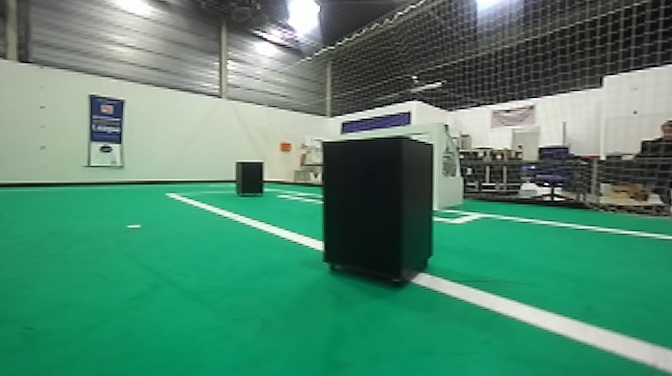goalpost: (430, 123, 444, 215)
